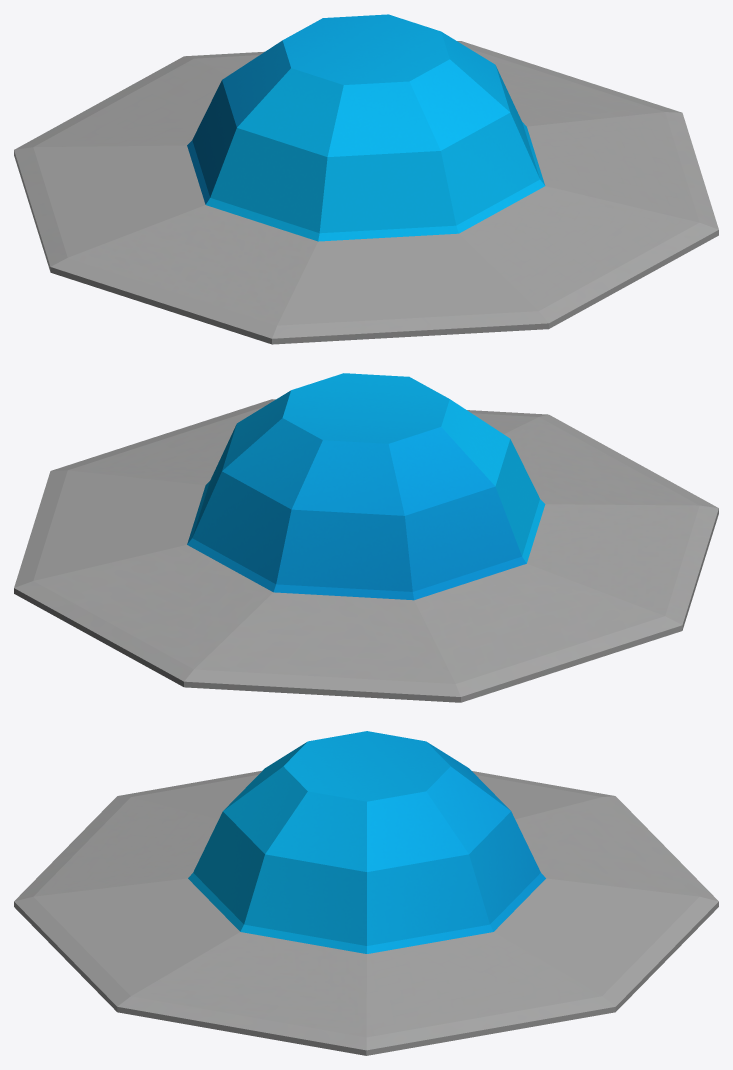
File: Enemy Ship.fbx
3 renders of one model, top to bottom at view 1: azimuth 30°, elevation 25°; view 2: azimuth 150°, elevation 25°; view 3: azimuth 270°, elevation 25°, orthographic. The views are drawn at different scales.
Parts seen in each view (by area): view 1: E_Ship; view 2: E_Ship; view 3: E_Ship.
Part boxes in pixels (x1,y1,x2,y2): E_Ship: (14,14,718,344); E_Ship: (14,373,718,702); E_Ship: (14,731,718,1055).
Bounding box in the file's own units: 193 × 68.47 × 193.
